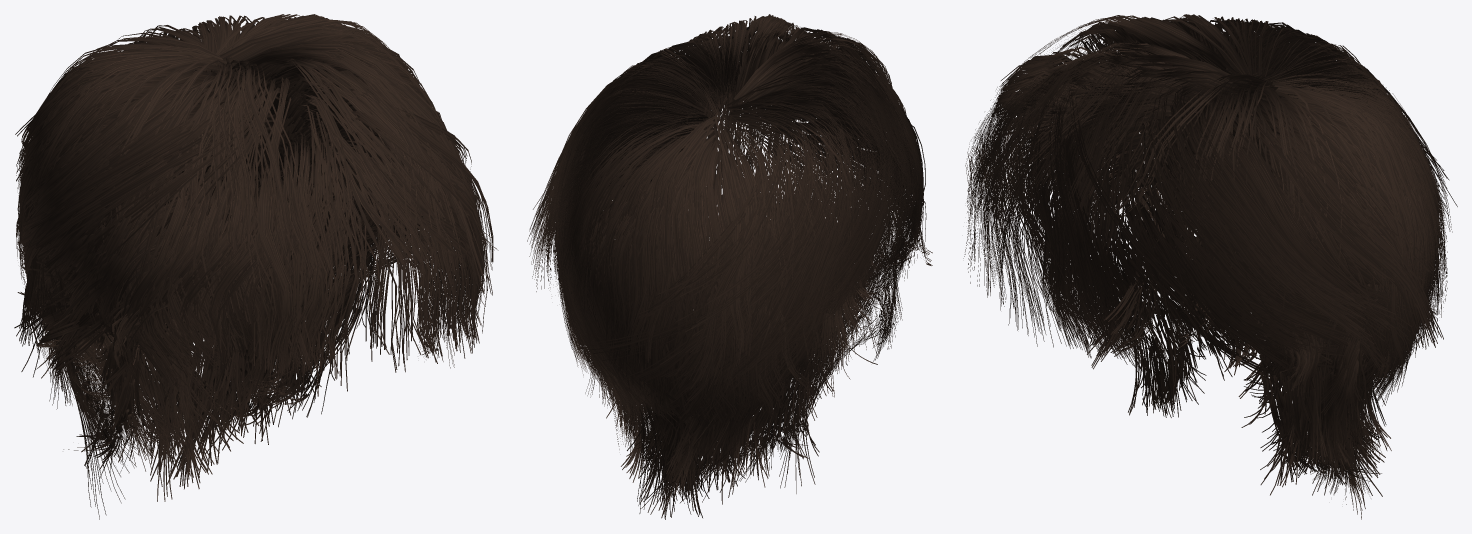
File: male-leaf.glb
The picture shows the model from 3 angles, left to right: view 1: azimuth 30°, elevation 25°; view 2: azimuth 150°, elevation 25°; view 3: azimuth 270°, elevation 25°; orthographic projection. The views are drawn at different scales.
Parts seen in each view (by area): view 1: Hair_MaleLeaf; view 2: Hair_MaleLeaf; view 3: Hair_MaleLeaf.
Boxes of the visible parts, <box> form: Hair_MaleLeaf: <box>14,14,498,519</box>; Hair_MaleLeaf: <box>527,14,932,519</box>; Hair_MaleLeaf: <box>963,14,1457,519</box>.
Bounding box in the file's own units: 0.1965 × 0.2436 × 0.2339.
Materials: 1 (1 with a texture image).
